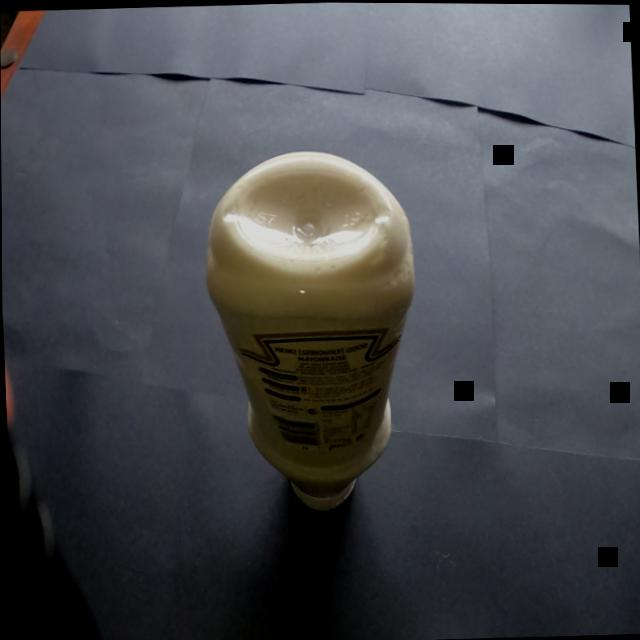Mayonnaise: (195, 127, 428, 529)
